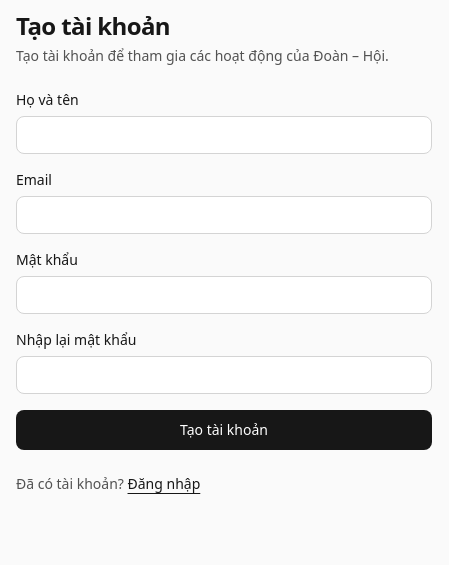
Test: RegisterPage › surfaces password_too_short in Vietnamese
Type "Nguyễn Lan" into the field labelled "Họ và tên" at (224, 135), box [16,116,432,154]
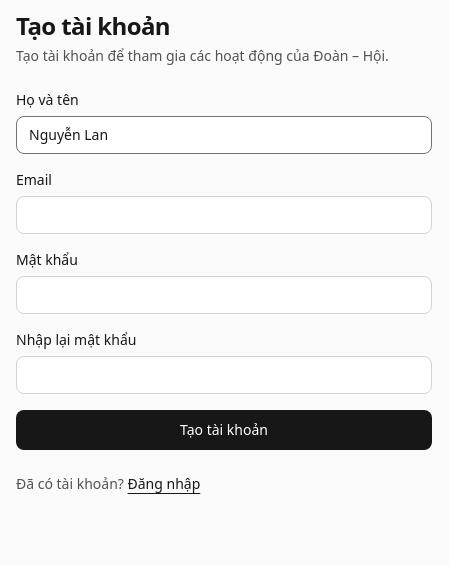
Type "lan@example.com" into the field labelled "Email" at (224, 215), box [16,196,432,234]
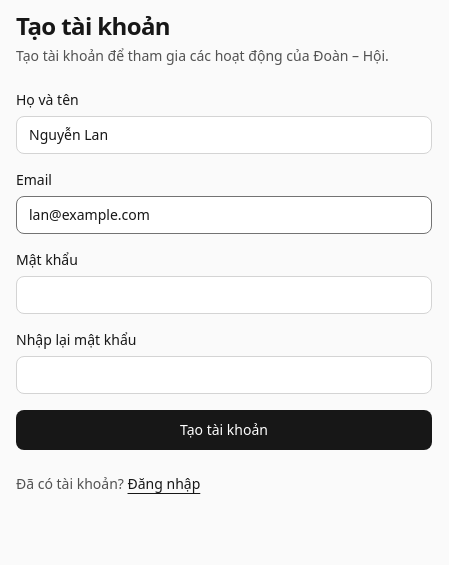
Type "mậtkhẩu123" into the password field labelled "Mật khẩu" at (224, 295), box [16,276,432,314]
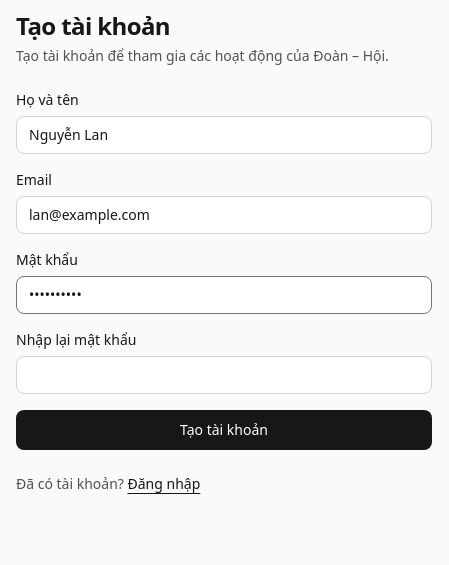
Type "mậtkhẩu123" into the password field labelled "Nhập lại mật khẩu" at (224, 375), box [16,356,432,394]
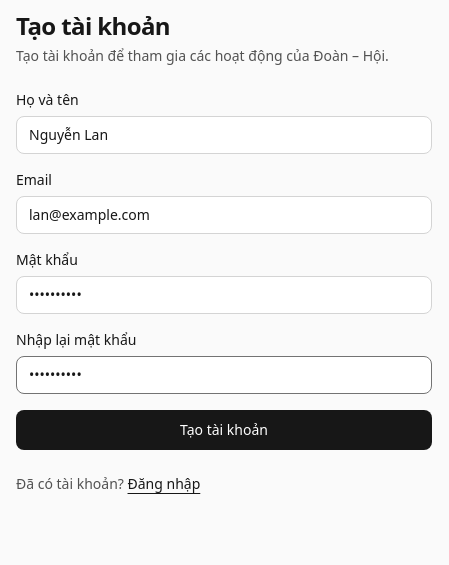
Click the button "Tạo tài khoản" at (224, 430), box [16,410,432,450]
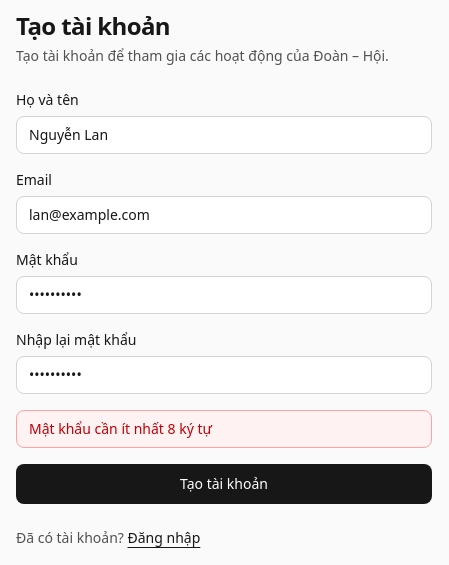
Expected: the message reads "Mật khẩu cần ít nhất 8 ký tự", [29,419,212,438]
